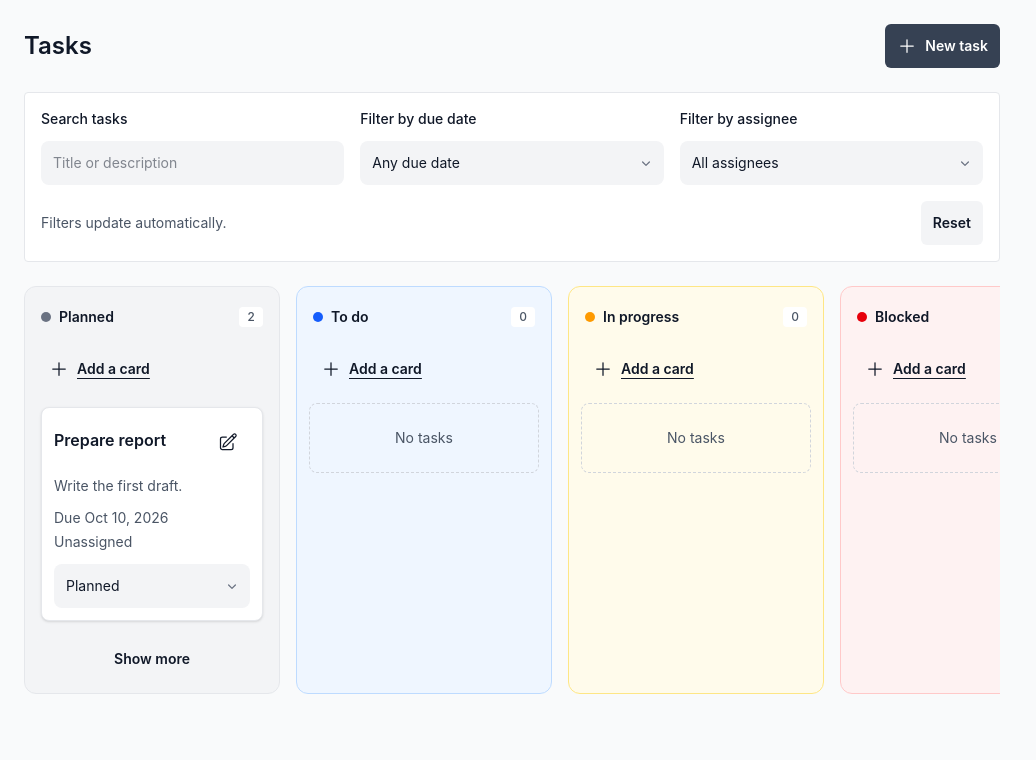
Test case: shows more tasks when the column has another page
Click the button "Show more" at (152, 659), box [37,637,267,681]
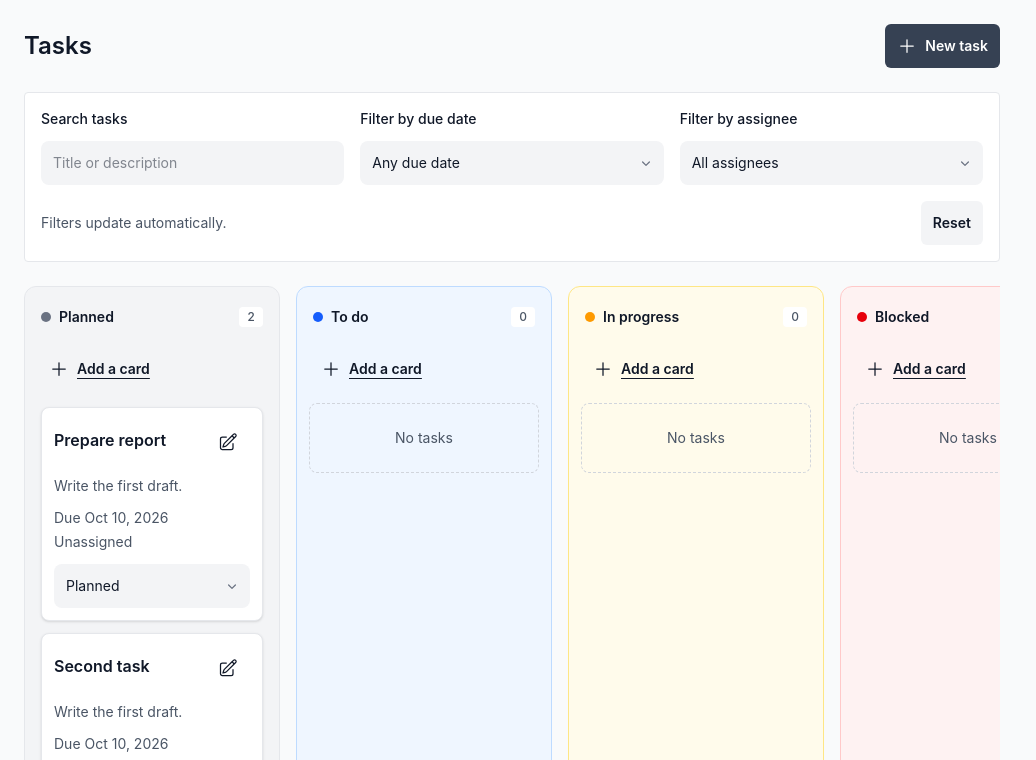
Check: the heading "Second task" is shown, box [54,656,150,676]
Check: the button "Show more" is gone
